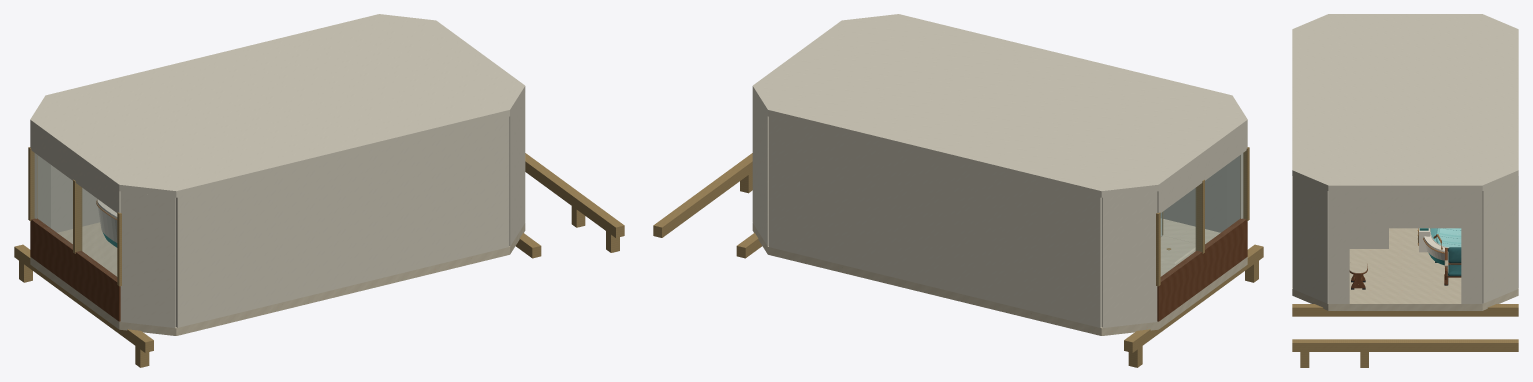
File: D04_STARBOARD_AFT_HOME_975_r001.glb
The picture shows the model from 3 angles, left to right: view 1: azimuth 30°, elevation 25°; view 2: azimuth 150°, elevation 25°; view 3: azimuth 270°, elevation 25°; orthographic projection. The views are drawn at different scales.
Parts seen in each view (by area): view 1: SA975_D04H970_Roof, SA975_D04H970_Shell_7, SA975_D04H970_Shell_6, SA975_D04H970_Floor, SA975_D04H970_GardenGlass, SA975_D04H970_GardenDado, SA975_D04H970_GardenHead, SA975_D04H970_Shell_0, SA975_SF_D04H964_ClearSupportLong, SA975_D04H970_Shell_3, SA975_SF_D04H964_Long_-29.35, SA975_D04H970_Shell_4 (+3 smaller); view 2: SA975_D04H970_Roof, SA975_D04H970_Shell_3, SA975_D04H970_Shell_4, SA975_D04H970_Floor, SA975_D04H970_GardenGlass, SA975_D04H970_GardenDado, SA975_D04H970_GardenHead, SA975_D04H970_Shell_2, SA975_D04H970_Shell_7, SA975_SF_D04H964_ClearSupportLong, SA975_SF_D04H964_Long_-29.35, SA975_D04H970_Shell_6 (+3 smaller); view 3: SA975_D04H970_Roof, SA975_D04H970_Floor, SA975_D04H970_EntryHeader, SA975_D04H970_Shell_0, SA975_D04H970_Shell_2, SA975_SF_D04H964_ClearSupportLong, SA975_D04H970_EntryWall_0, SA975_D04H970_EntryWall_1, SA975_SF_D04H964_Long_-41.650000000000006, SA975_D04H970_BathDogleg, SA975_ReservedAquaticRest_1__WaterSurface_VisualOnly, SA975_ReservedAquaticRest_1__Hollow continuous basin shell w (+5 smaller).
Part boxes in pixels (x1,y1,x2,y2): SA975_D04H970_Roof: (30, 14, 525, 197); SA975_D04H970_Shell_7: (176, 116, 508, 327); SA975_D04H970_Shell_6: (120, 191, 175, 327); SA975_D04H970_Floor: (30, 222, 525, 335); SA975_D04H970_GardenGlass: (32, 155, 116, 279); SA975_D04H970_GardenDado: (30, 218, 120, 321); SA975_D04H970_GardenHead: (30, 126, 120, 212); SA975_D04H970_Shell_0: (509, 93, 524, 246); SA975_SF_D04H964_ClearSupportLong: (525, 153, 624, 237); SA975_D04H970_Shell_3: (51, 165, 99, 232); SA975_SF_D04H964_Long_-29.35: (14, 244, 153, 352); SA975_D04H970_Shell_4: (34, 153, 50, 227); SA975_D04H970_Roof: (752, 14, 1247, 197); SA975_D04H970_Shell_3: (769, 116, 1101, 327); SA975_D04H970_Shell_4: (1102, 191, 1157, 327); SA975_D04H970_Floor: (752, 218, 1247, 335); SA975_D04H970_GardenGlass: (1161, 155, 1244, 280); SA975_D04H970_GardenDado: (1157, 218, 1247, 321); SA975_D04H970_GardenHead: (1157, 126, 1247, 212); SA975_D04H970_Shell_2: (753, 93, 768, 246); SA975_D04H970_Shell_7: (1161, 165, 1226, 232); SA975_SF_D04H964_ClearSupportLong: (653, 153, 752, 237); SA975_SF_D04H964_Long_-29.35: (1124, 244, 1263, 352); SA975_D04H970_Shell_6: (1227, 153, 1243, 227); SA975_D04H970_Roof: (1292, 14, 1518, 191); SA975_D04H970_Floor: (1292, 228, 1518, 310); SA975_D04H970_EntryHeader: (1349, 191, 1461, 228); SA975_D04H970_Shell_0: (1293, 176, 1328, 303); SA975_D04H970_Shell_2: (1482, 176, 1517, 303); SA975_SF_D04H964_ClearSupportLong: (1292, 339, 1518, 351); SA975_D04H970_EntryWall_0: (1328, 191, 1349, 303); SA975_D04H970_EntryWall_1: (1461, 191, 1482, 303); SA975_SF_D04H964_Long_-41.650000000000006: (1292, 304, 1518, 316); SA975_D04H970_BathDogleg: (1349, 228, 1388, 248); SA975_ReservedAquaticRest_1__WaterSurface_VisualOnly: (1431, 228, 1460, 247); SA975_ReservedAquaticRest_1__Hollow continuous basin shell w: (1423, 228, 1445, 265).
Size of the model in its own units: 15.41 by 5.24 by 7.2.
51 materials, 21 textured.
